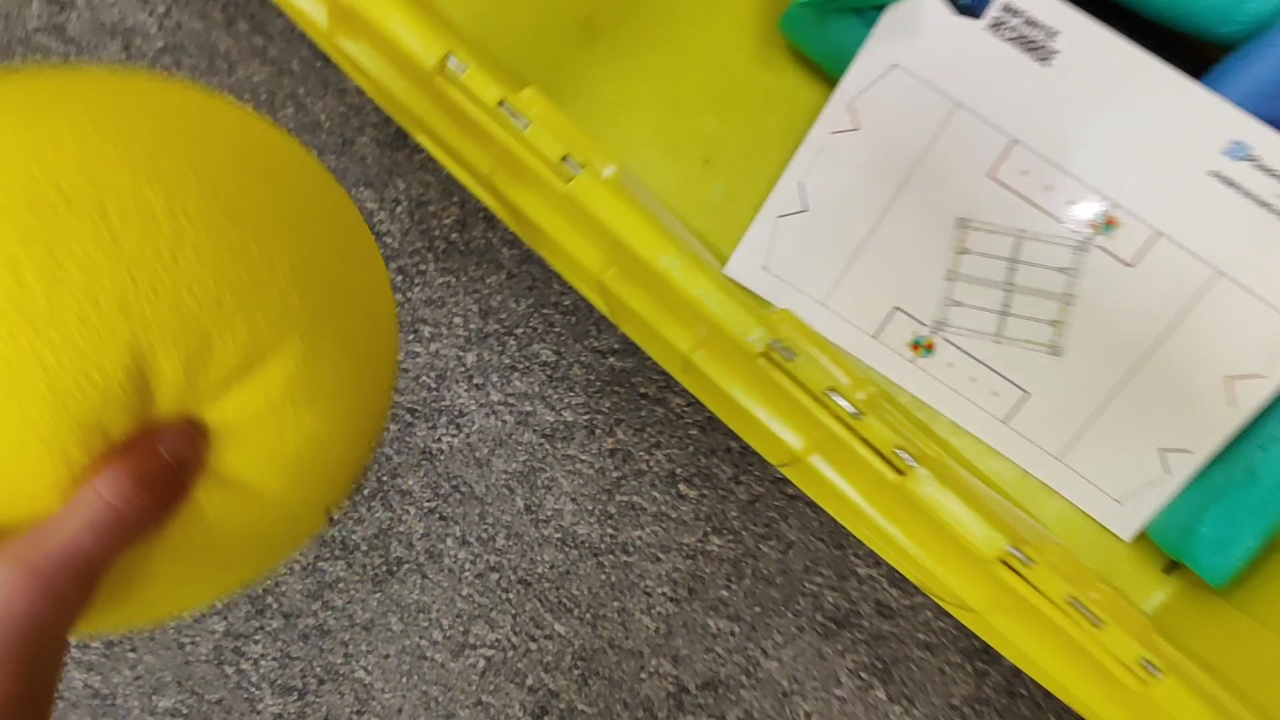Ball: (1, 63, 400, 641)
